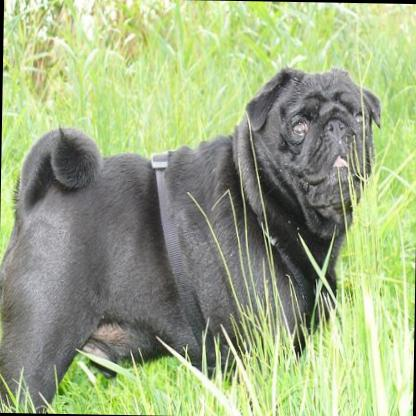pug: (0, 61, 379, 416)
